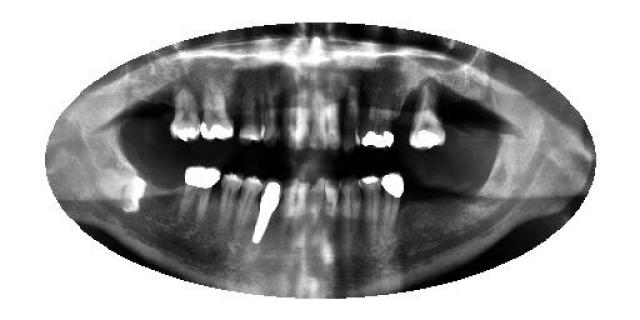Fillings: (178, 164, 222, 228), (408, 91, 448, 151), (363, 85, 395, 154), (200, 85, 236, 140), (170, 86, 202, 140), (381, 172, 404, 238), (361, 175, 381, 243)
Implant: (251, 179, 284, 246)
Restorations: (96, 168, 148, 214)
